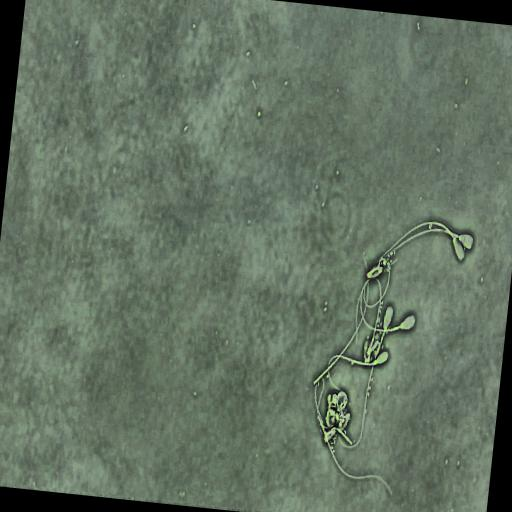folded-tail: (363, 258, 390, 307)
loose-tail: (311, 250, 370, 388), (318, 414, 395, 497)
normal: (338, 303, 396, 450), (382, 218, 466, 263), (359, 278, 419, 335), (326, 348, 391, 392), (389, 228, 474, 255), (363, 257, 391, 309)
proximal-droplet: (373, 360, 377, 365)
